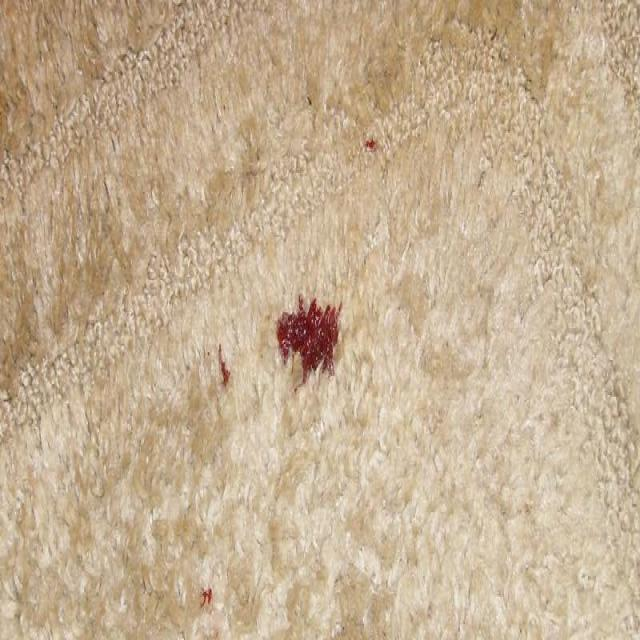Bloodstain-Detection: (274, 319, 336, 351)
